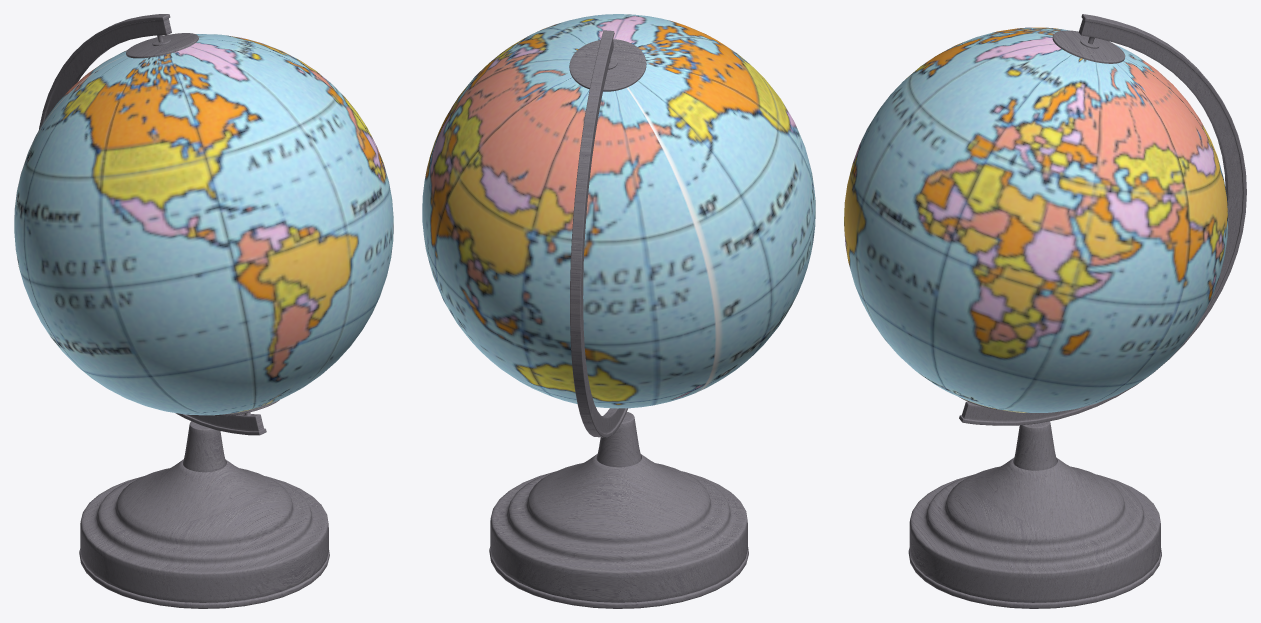
The model's file is Globo.obj.
3 views of the same model, side by side, from view 1: azimuth 30°, elevation 25°; view 2: azimuth 150°, elevation 25°; view 3: azimuth 270°, elevation 25° (orthographic). The views are drawn at different scales.
Parts seen in each view (by area): view 1: globe:Object01, globe:Globe02; view 2: globe:Object01, globe:Globe02; view 3: globe:Object01, globe:Globe02.
Part boxes in pixels (x1,y1,x2,y2): globe:Object01: [14, 34, 393, 415]; globe:Globe02: [38, 14, 329, 608]; globe:Object01: [422, 14, 815, 408]; globe:Globe02: [489, 30, 748, 608]; globe:Object01: [844, 27, 1228, 412]; globe:Globe02: [908, 14, 1246, 608].
Size of the model in its own units: 0.9754 by 1.49 by 1.02.
2 materials, 2 textured.
